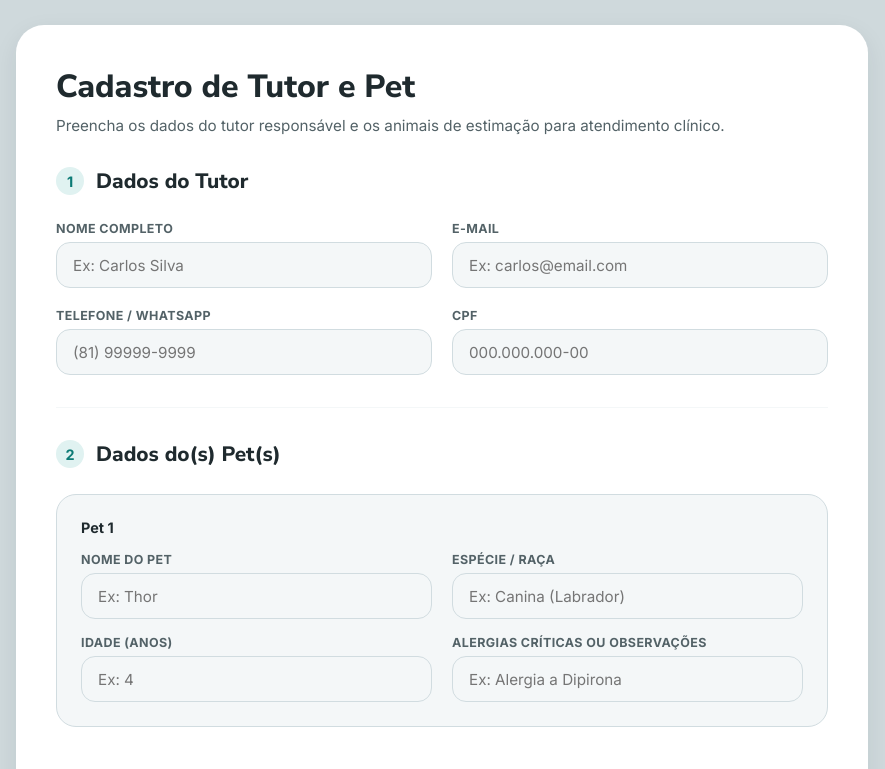
Test case: cadastro rejeita dados invalidos e mostra erros junto aos campos
The width and height of the screenshot is (885, 769).
Type "invalido" into the field labelled "E-MAIL". click: point(640, 265)
box: [467,243,813,287]
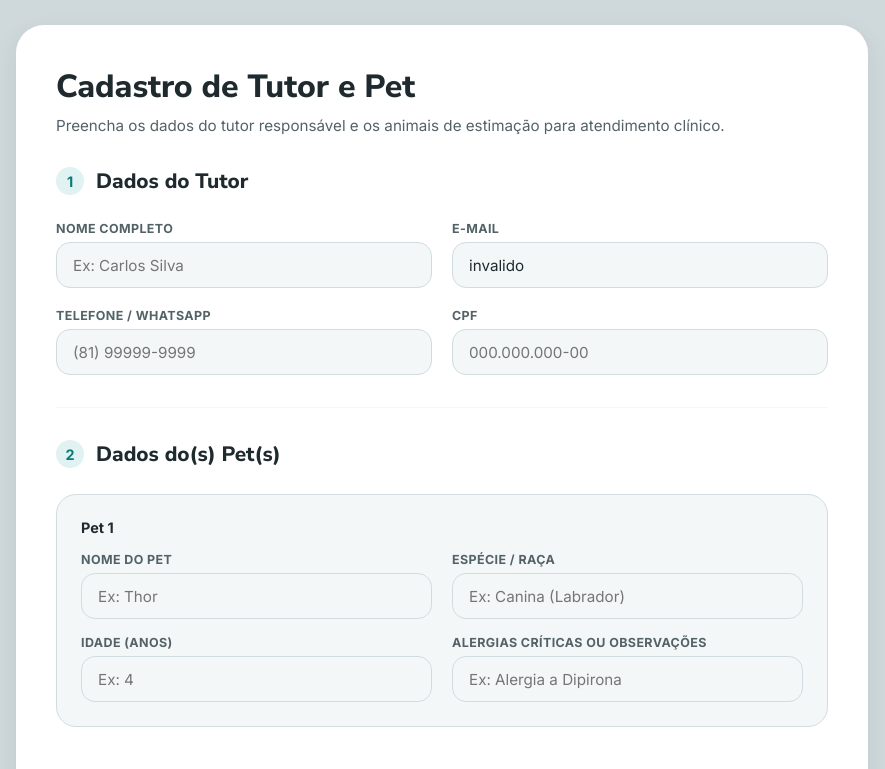
Type "11111111111" into the field with placeholder "000.000.000-00". click: point(640, 352)
box: [467,330,813,374]
(page scrolled)
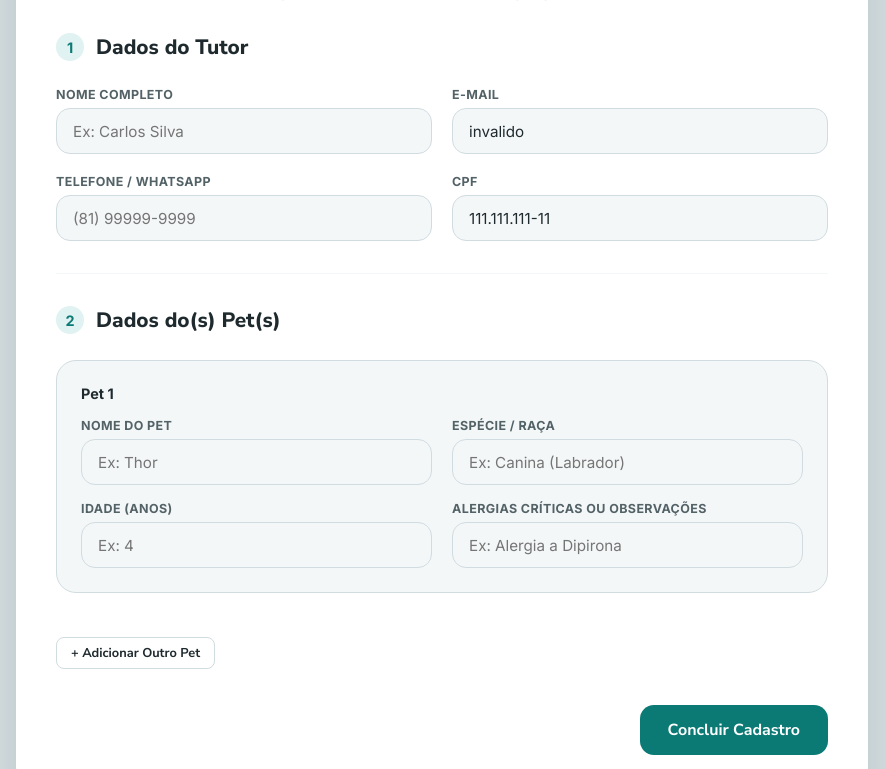
Submit the form
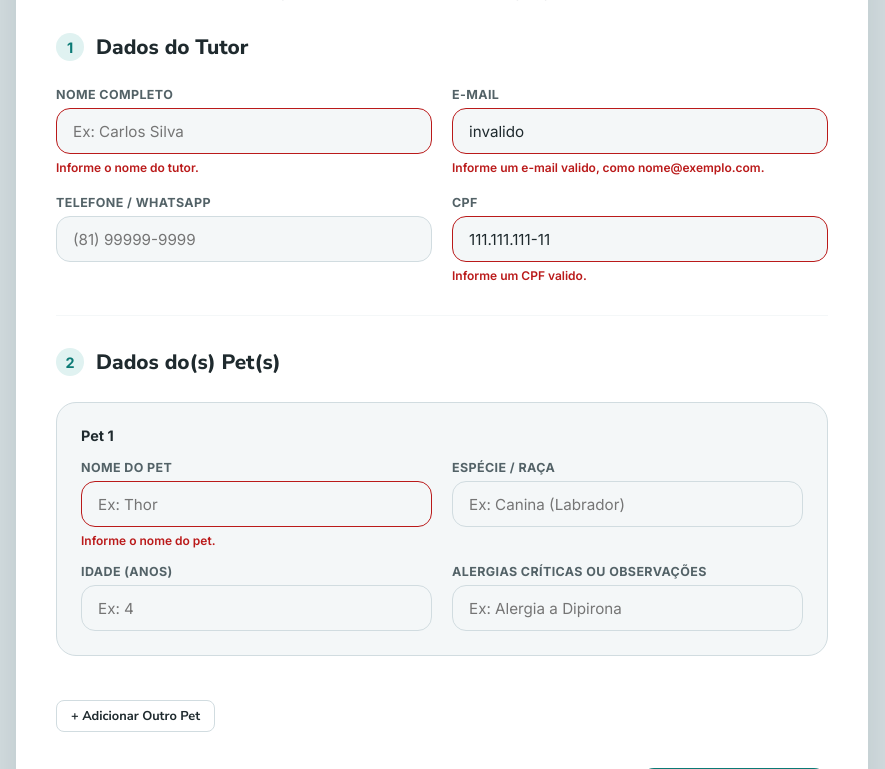
Now the text "Informe um CPF valido." is shown, box [452,268,587,283]
